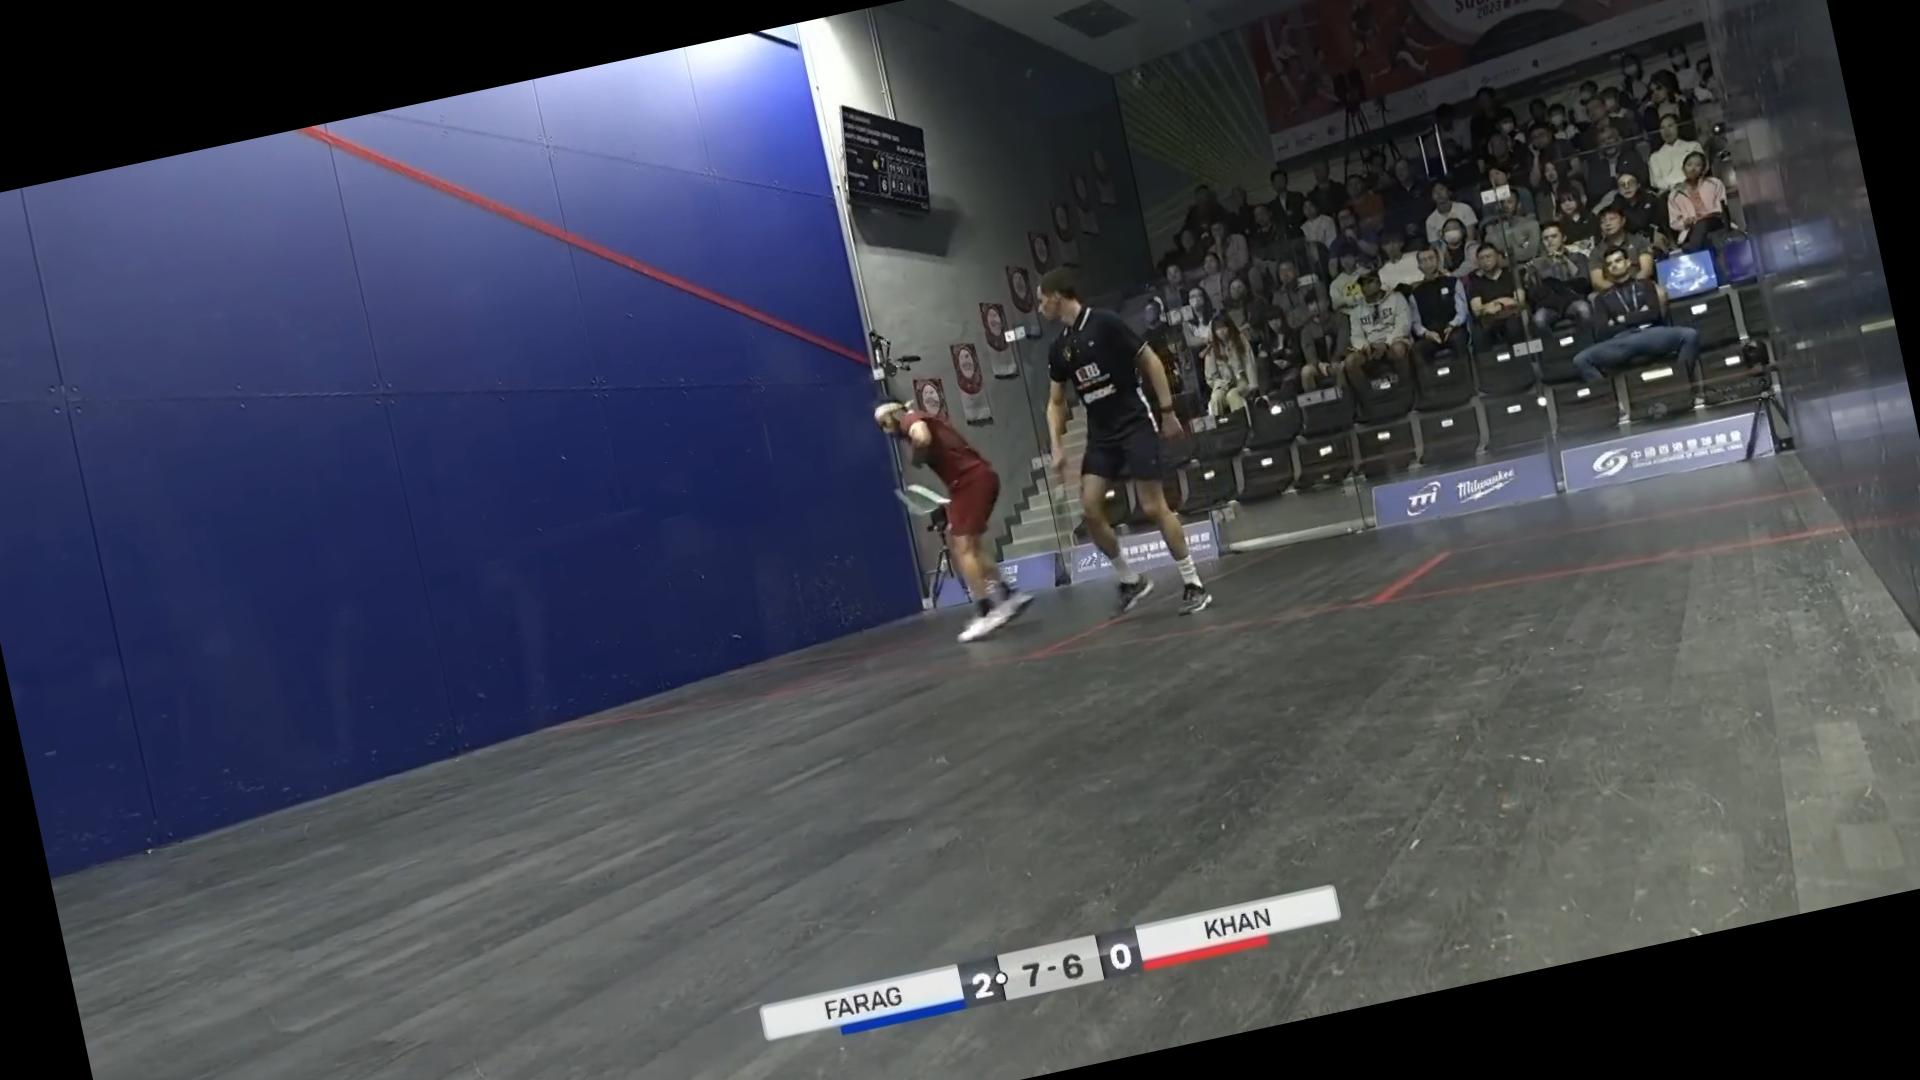Racket: (891, 473, 956, 529)
